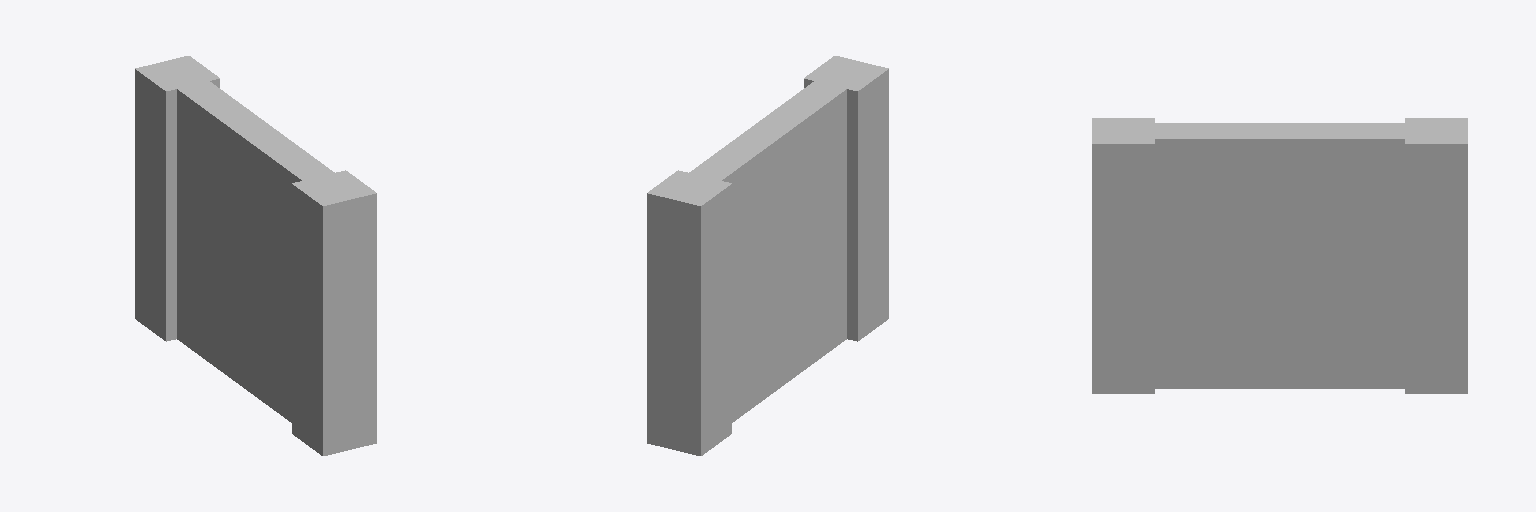
Rendered from Wood_Door_Round_01.obj.
The picture shows the model from 3 angles: view 1: azimuth 30°, elevation 25°; view 2: azimuth 150°, elevation 25°; view 3: azimuth 270°, elevation 25°; orthographic projection.
Parts seen in each view (by area): view 1: Mesh1 Wood_Door_Round Model; view 2: Mesh1 Wood_Door_Round Model; view 3: Mesh1 Wood_Door_Round Model.
Part boxes in pixels (bbox=[...]): Mesh1 Wood_Door_Round Model: bbox=[135, 56, 376, 455]; Mesh1 Wood_Door_Round Model: bbox=[647, 56, 888, 455]; Mesh1 Wood_Door_Round Model: bbox=[1092, 118, 1467, 393].
Size of the model in its own units: 0.5 by 2.2 by 3.